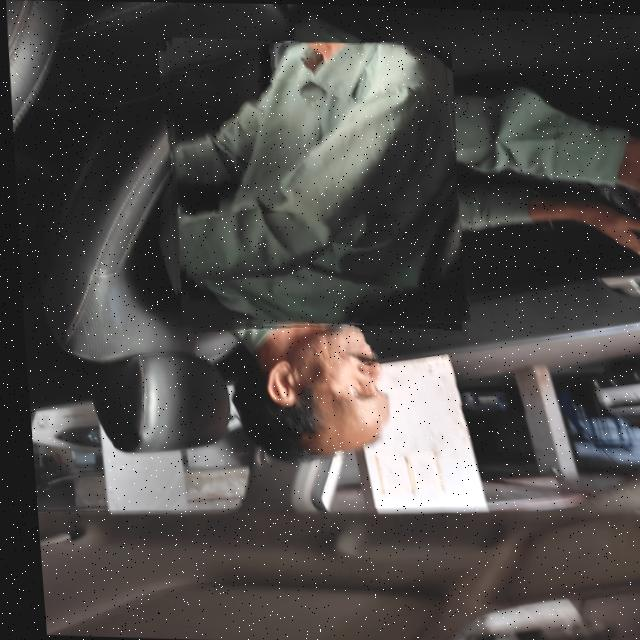no-seatbelt: (156, 36, 467, 334)
